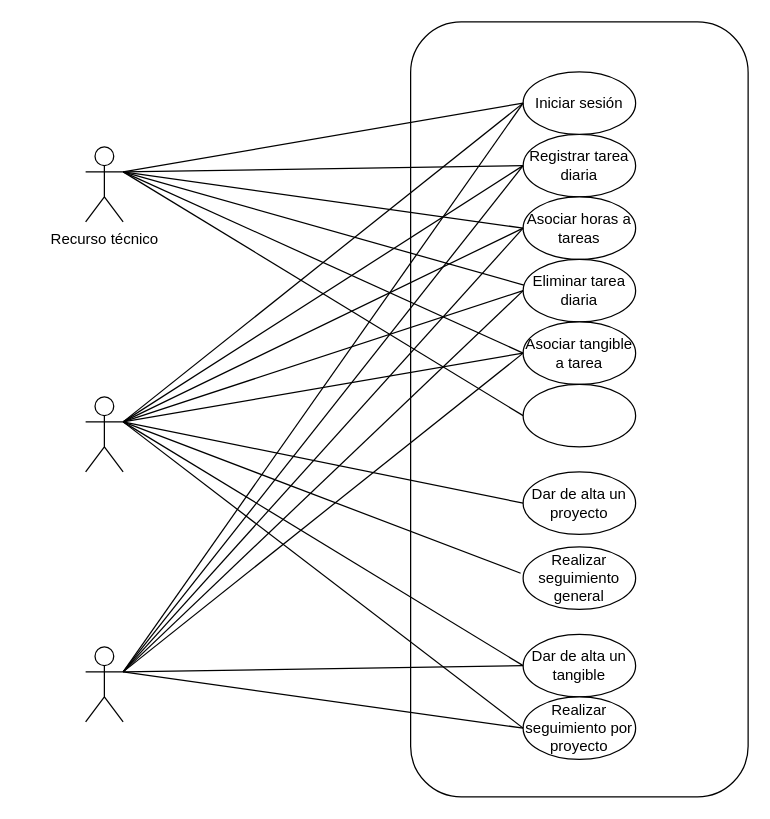
Image size: 770x819. Some labels were removed from this diagram. Each missing label, with the centre of its shape:
Coordinador de proyecto: point (103, 684)
Coordinador de área: point (103, 434)
Realizar seguimiento individual: point (579, 415)
